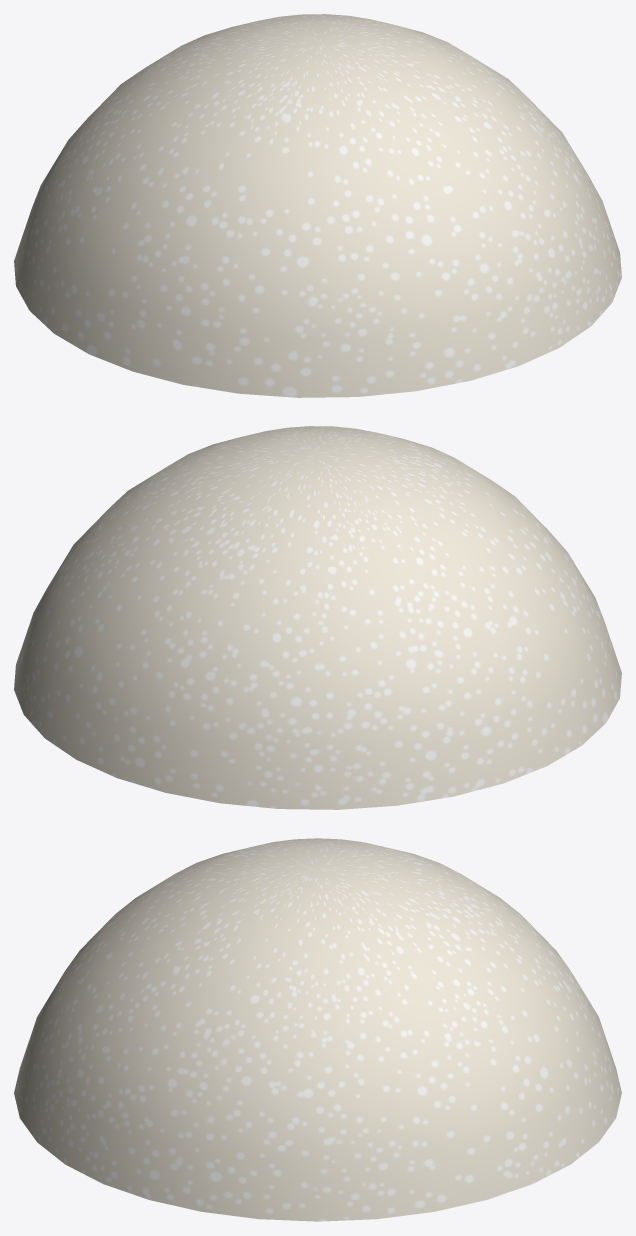
The model's file is snowdome.obj.
3 renders of one model, top to bottom at view 1: azimuth 30°, elevation 25°; view 2: azimuth 150°, elevation 25°; view 3: azimuth 270°, elevation 25°, orthographic.
Parts seen in each view (by area): view 1: 球_球.001; view 2: 球_球.001; view 3: 球_球.001.
Boxes of the visible parts, x1,y1,x2,y2 form: 球_球.001: (14,14,621,397); 球_球.001: (14,426,621,809); 球_球.001: (14,838,621,1221).
Size of the model in its own units: 6.88 by 2.82 by 6.88.
Materials: 1 (1 with a texture image).
